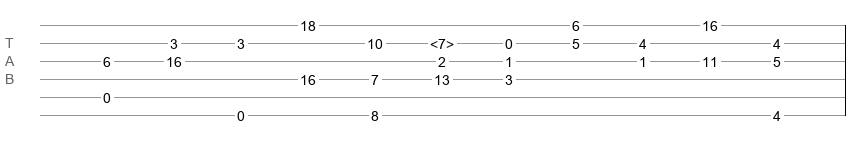0: (103, 90, 111, 100), (237, 108, 245, 118), (505, 36, 513, 46)
1: (505, 54, 513, 64), (639, 54, 647, 64)
10: (367, 36, 383, 46)
11: (702, 54, 718, 64)
13: (434, 72, 450, 82)
16: (166, 54, 182, 64), (300, 72, 316, 82), (702, 18, 718, 28)
18: (300, 18, 316, 28)
2: (438, 54, 446, 64)
3: (170, 36, 178, 46), (237, 36, 245, 46), (505, 72, 513, 82)
4: (639, 36, 647, 46), (773, 108, 781, 118), (773, 36, 781, 46)
5: (572, 36, 580, 46), (773, 54, 781, 64)
6: (103, 54, 111, 64), (572, 18, 580, 28)
7: (371, 72, 379, 82)
8: (371, 108, 379, 118)
harmonic: (430, 36, 454, 46)
